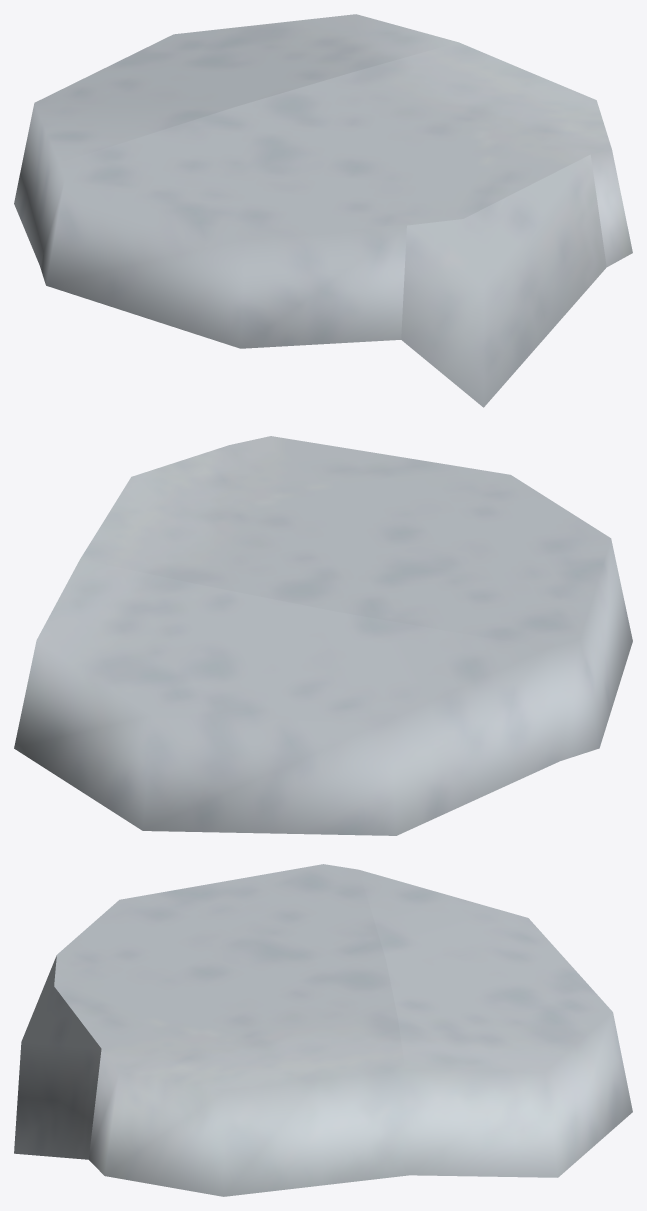
File: Pillar_4_Snow.fbx
3 views of the same model, one above another, from view 1: azimuth 30°, elevation 25°; view 2: azimuth 150°, elevation 25°; view 3: azimuth 270°, elevation 25° (orthographic). The views are drawn at different scales.
Parts seen in each view (by area): view 1: Pillar_4_Snow; view 2: Pillar_4_Snow; view 3: Pillar_4_Snow.
Boxes of the visible parts, x1,y1,x2,y2 form: Pillar_4_Snow: (14, 14, 632, 407); Pillar_4_Snow: (14, 436, 632, 835); Pillar_4_Snow: (14, 864, 632, 1196).
Bounding box in the file's own units: 77.83 × 26.28 × 83.4.
